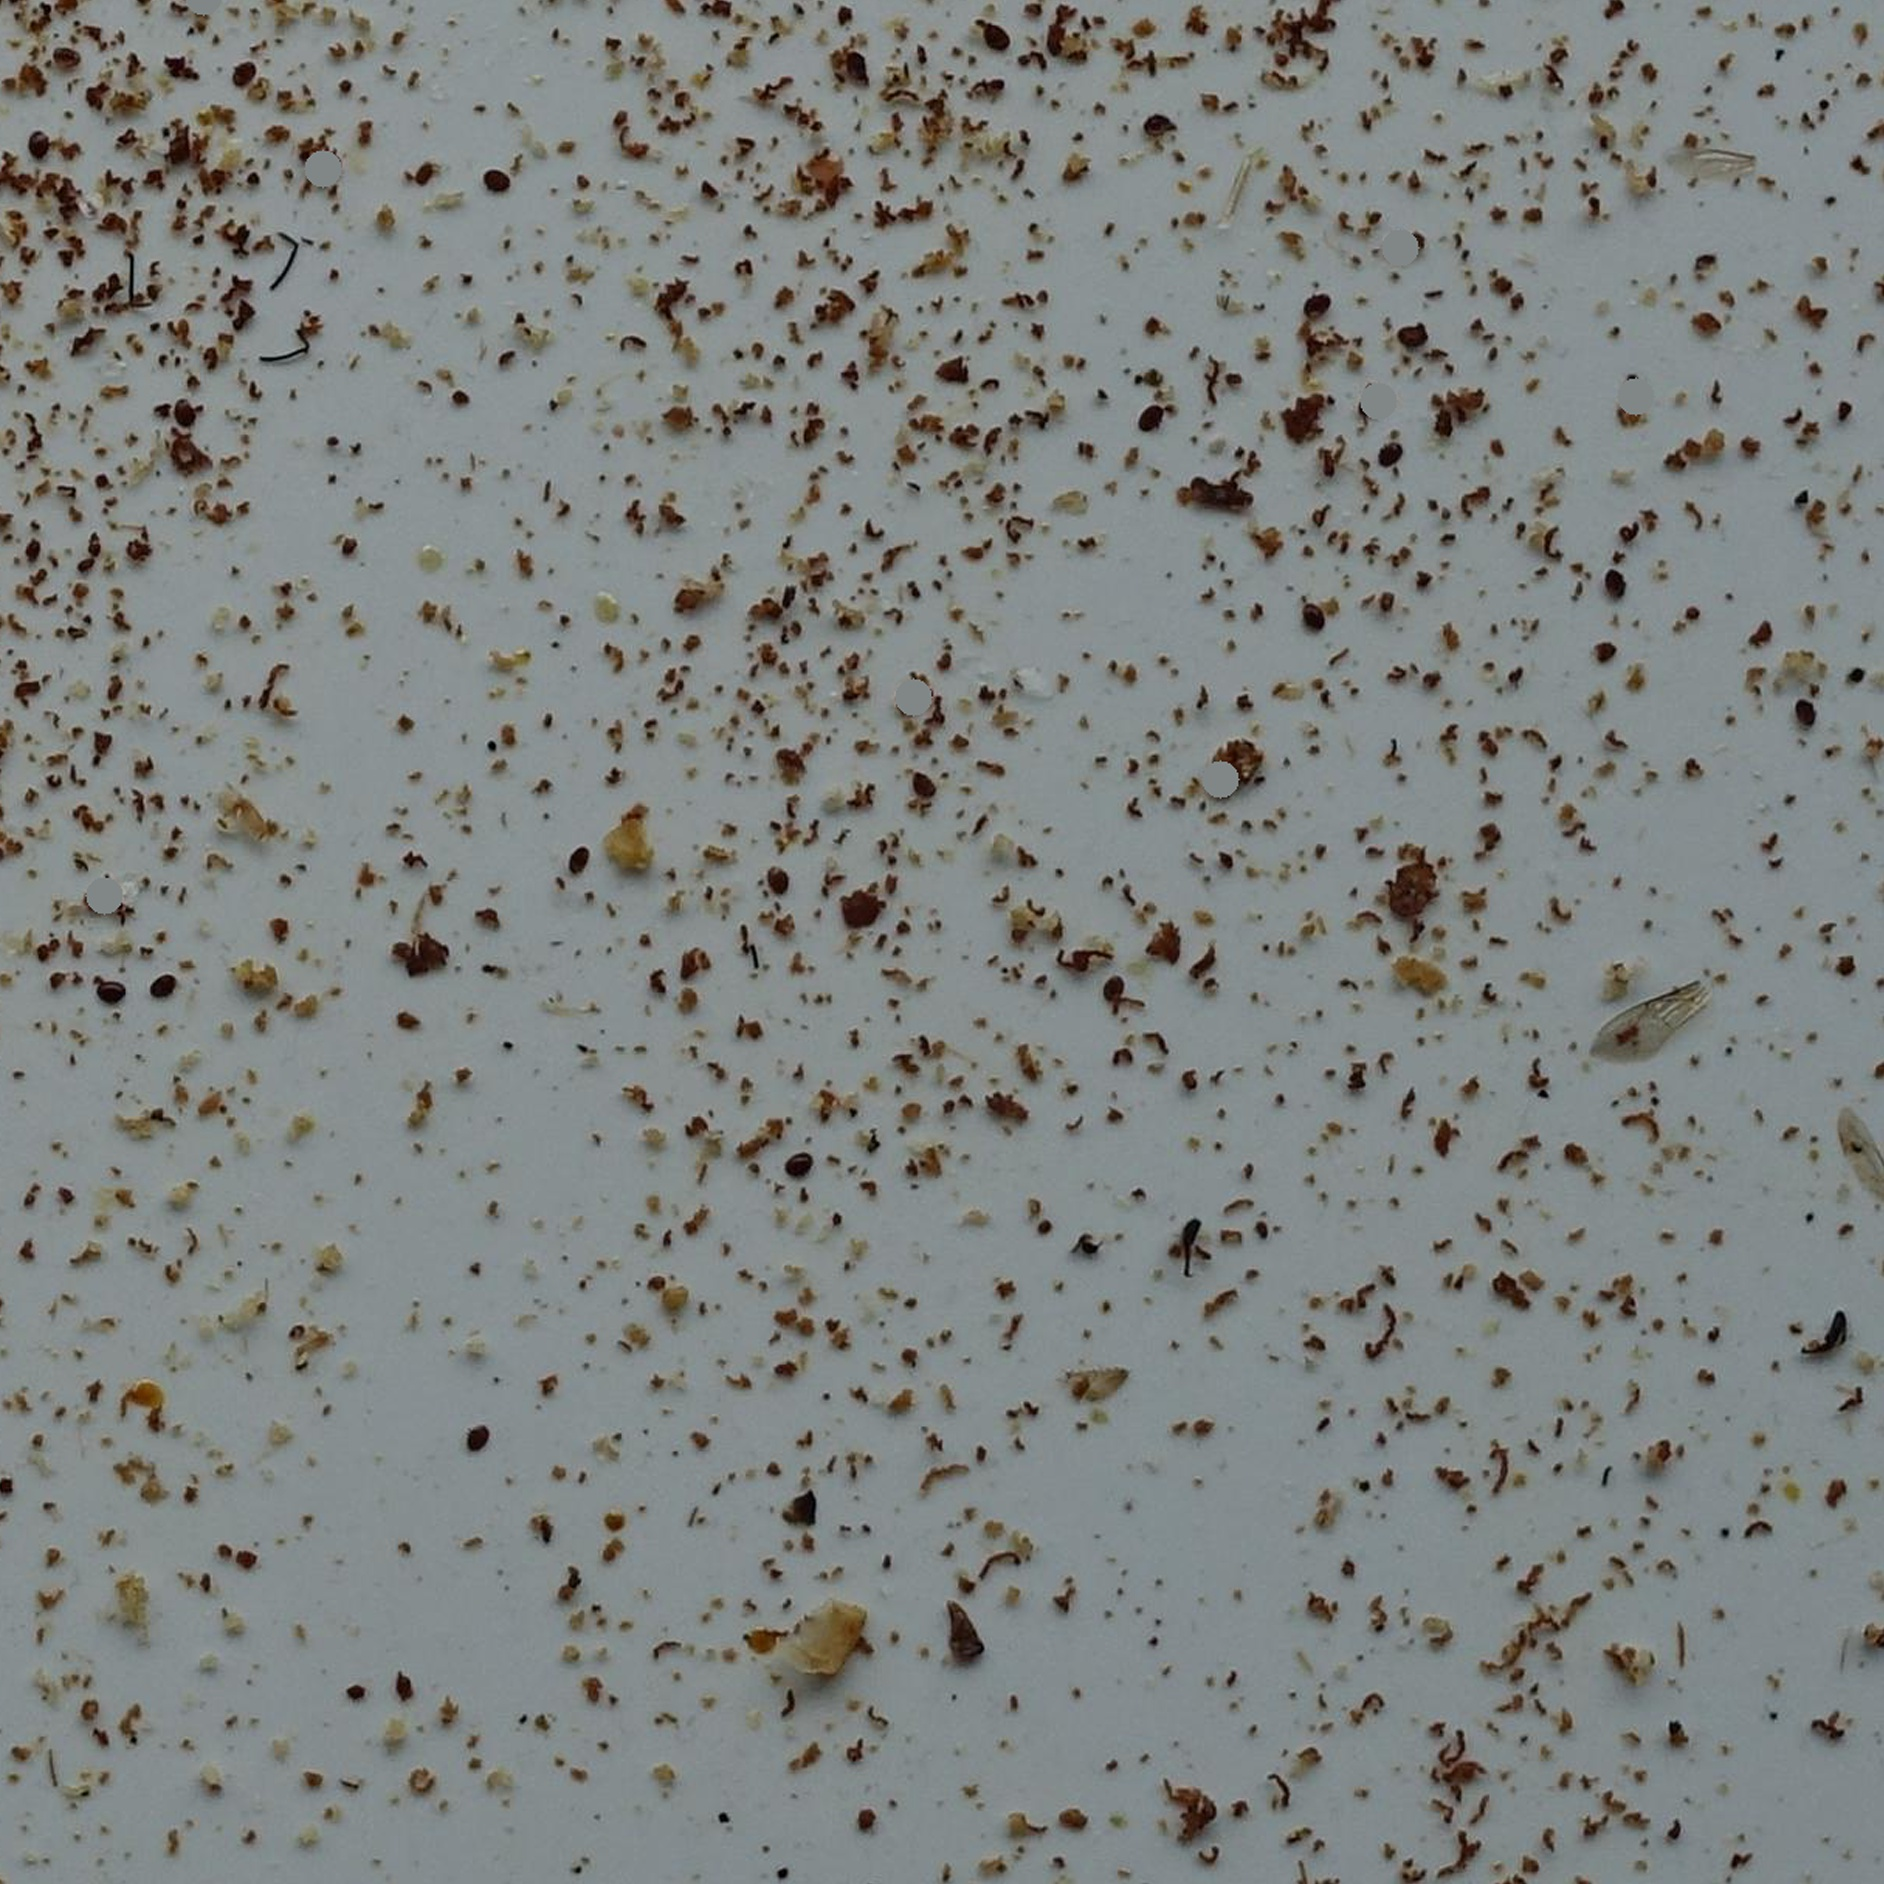Varroa: (1347, 383, 1377, 411), (842, 48, 870, 78), (1603, 564, 1629, 593), (983, 21, 1009, 47), (53, 45, 78, 71), (1401, 323, 1425, 347), (1793, 700, 1817, 725), (28, 135, 52, 159), (913, 771, 935, 797), (1146, 112, 1170, 135), (1139, 404, 1163, 426), (768, 868, 790, 892), (155, 982, 178, 1006), (1380, 443, 1403, 468), (93, 983, 116, 1006), (568, 847, 590, 870), (1299, 293, 1322, 316), (174, 400, 197, 423), (462, 1434, 487, 1454), (788, 1147, 809, 1171), (235, 57, 255, 79), (1108, 975, 1128, 997), (1301, 607, 1322, 628), (488, 166, 507, 188)
